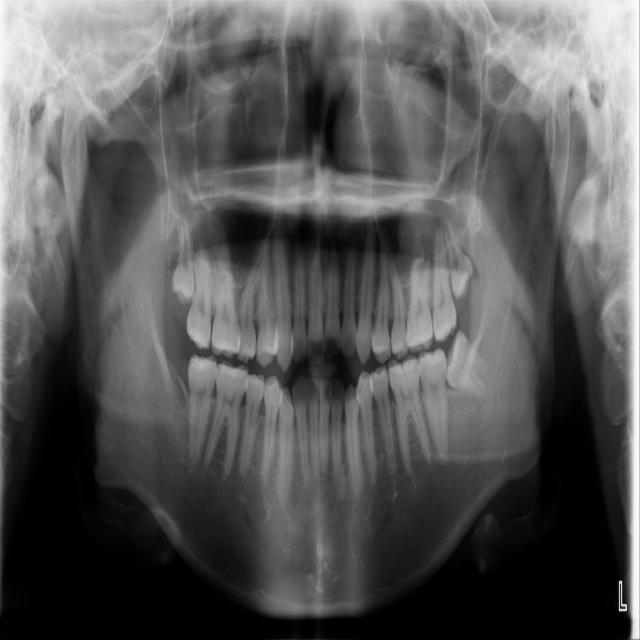3M ESPE Implant: (167, 219, 196, 306)
BioHorizons Implant: (428, 230, 458, 344)
BioLife Implant: (441, 218, 477, 301)
Biomet 3i Implant: (436, 329, 509, 403)
Blue Sky Bio Implant: (417, 348, 447, 461)
Caries: (185, 244, 213, 350)
Implant: (187, 353, 220, 468)
